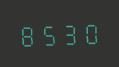eight: (18, 21, 37, 47)
five: (38, 20, 57, 47)
three: (58, 20, 77, 46)
zero: (78, 19, 97, 45)
